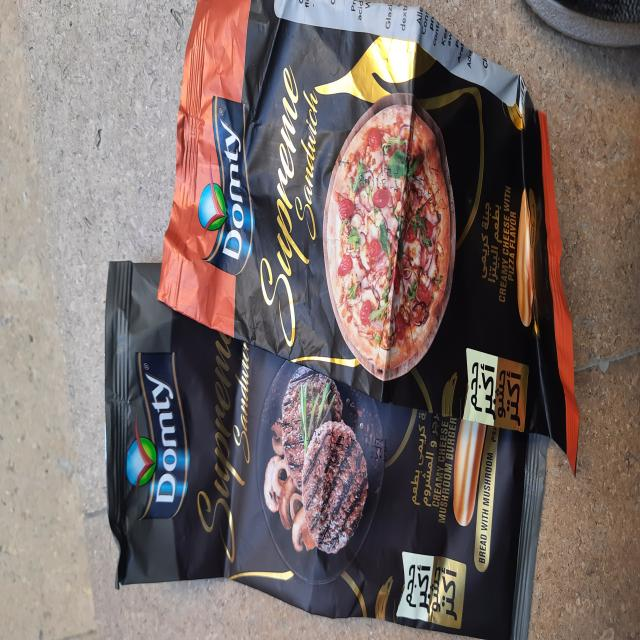trash: (159, 0, 584, 400), (104, 268, 538, 640)
